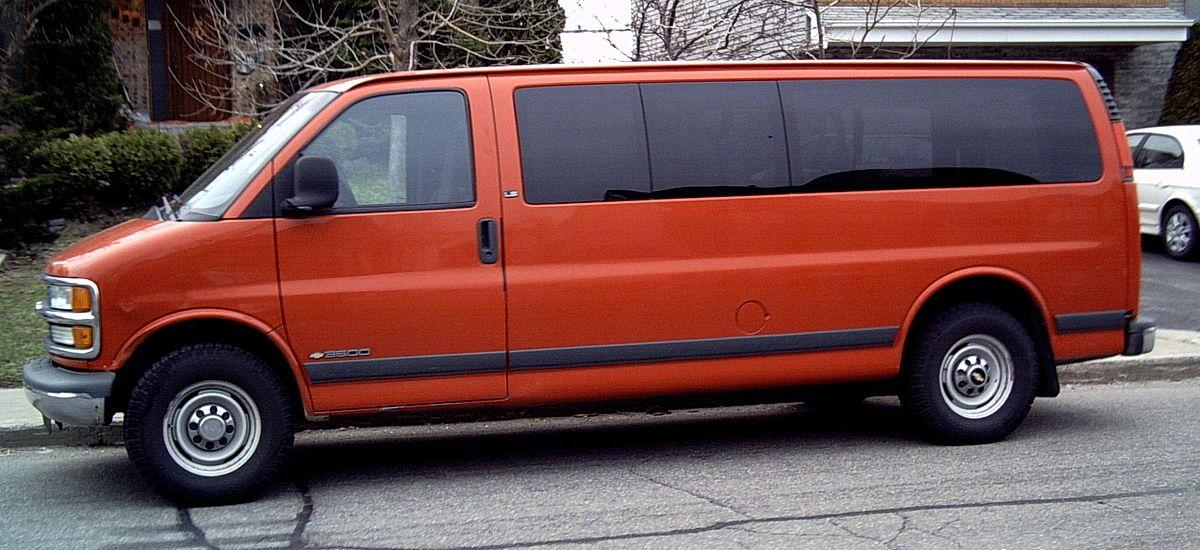car: (1126, 126, 1200, 261)
van: (23, 58, 1157, 508)
